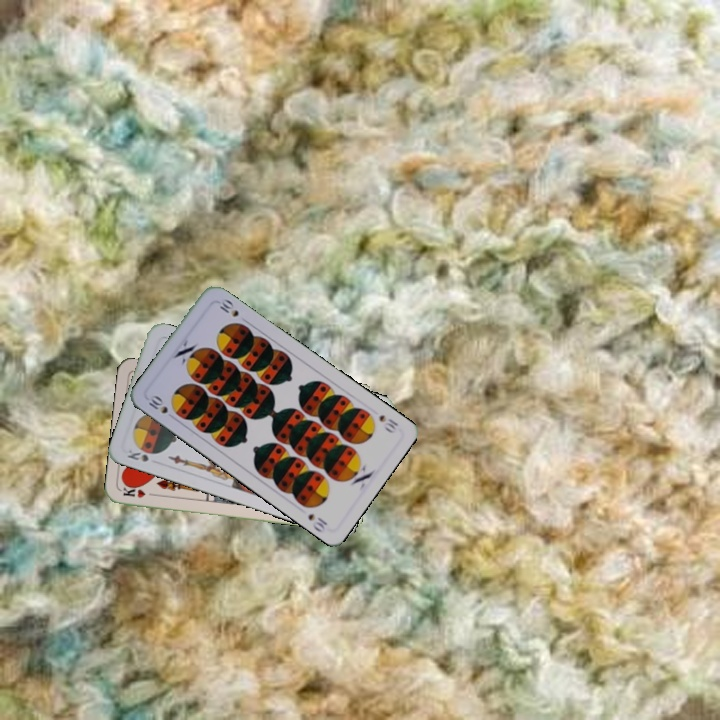HK: (119, 482, 159, 501)
S10: (143, 391, 178, 422), (375, 411, 401, 436)
SK: (123, 448, 151, 465)
